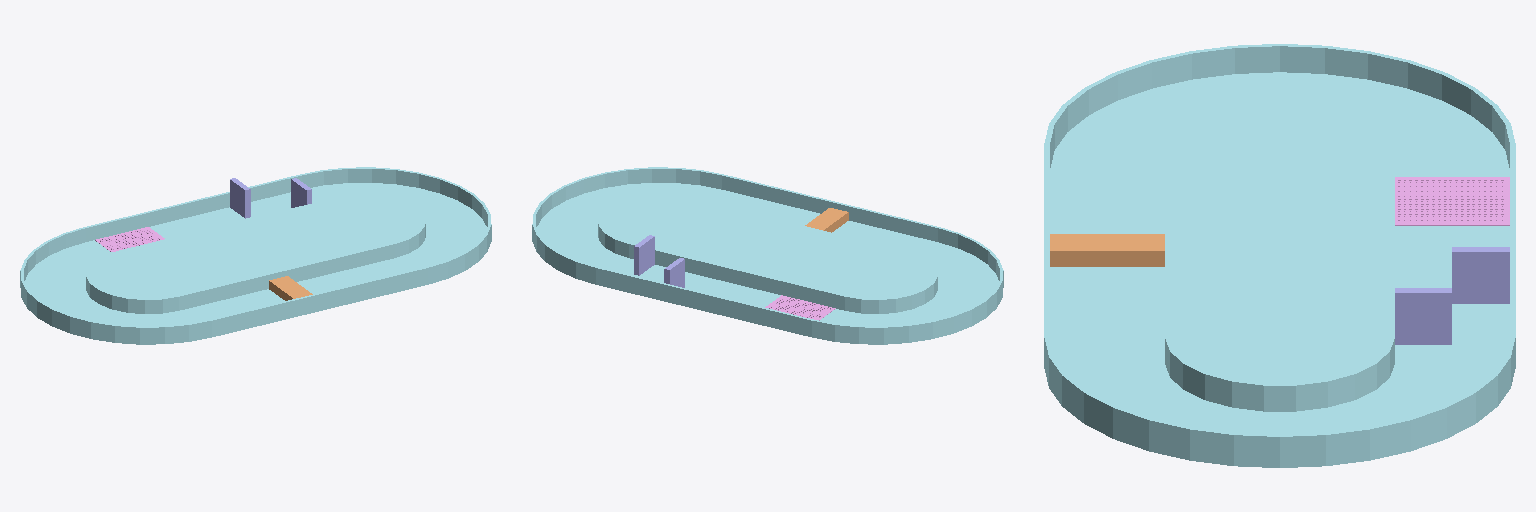
robot.urdf — field:
<?xml version="1.0" encoding="utf-8"?>
<!-- This URDF was automatically created by SolidWorks to URDF Exporter! Originally created by [author] ([email redacted]) 
     Commit Version: 1.6.0-4-g7f85cfe  Build Version: 1.6.7995.38578
     For more information, please see http://wiki.ros.org/sw_urdf_exporter -->
<robot
  name="field">
  <link
    name="arena">
    <inertial>
      <origin
        xyz="-1.07796256326989E-16 5.24094761893937E-16 0.251860663172305"
        rpy="0 0 0" />
      <mass
        value="36196.5475825679" />
      <inertia
        ixx="111361.282109728"
        ixy="-5.68961615328298E-11"
        ixz="1.47345935311266E-12"
        iyy="512546.576764148"
        iyz="6.31493583110209E-12"
        izz="621439.168724381" />
    </inertial>
    <visual>
      <origin
        xyz="0 0 0"
        rpy="0 0 0" />
      <geometry>
        <mesh
          filename="package://field/meshes/arena.STL" />
      </geometry>
      <material
        name="">
        <color
          rgba="0.756862745098039 0.964705882352941 1 1" />
      </material>
    </visual>
    <collision>
      <origin
        xyz="0 0 0"
        rpy="0 0 0" />
      <geometry>
        <mesh
          filename="package://field/meshes/arena.STL" />
      </geometry>
    </collision>
  </link>
  <link
    name="slope">
    <inertial>
      <origin
        xyz="-0.331974275290728 -0.125 0"
        rpy="0 0 0" />
      <mass
        value="420" />
      <inertia
        ixx="143.15"
        ixy="0"
        ixz="-3.70074341541719E-15"
        iyy="157.15"
        iyz="6.30512779412488E-32"
        izz="20.3" />
    </inertial>
    <visual>
      <origin
        xyz="0 0 0"
        rpy="0 0 0" />
      <geometry>
        <mesh
          filename="package://field/meshes/slope.STL" />
      </geometry>
      <material
        name="">
        <color
          rgba="0.988235294117647 0.737254901960784 0.517647058823529 1" />
      </material>
    </visual>
    <collision>
      <origin
        xyz="0 0 0"
        rpy="0 0 0" />
      <geometry>
        <mesh
          filename="package://field/meshes/slope.STL" />
      </geometry>
    </collision>
  </link>
  <joint
    name="slope_joint"
    type="fixed">
    <origin
      xyz="0 -3 0.375"
      rpy="1.5708 0 0" />
    <parent
      link="arena" />
    <child
      link="slope" />
    <axis
      xyz="1 0 0" />
  </joint>
  <link
    name="rubble">
    <inertial>
      <origin
        xyz="-1.00575680043092 0.00661190412065712 0.0035970917734951"
        rpy="0 0 0" />
      <mass
        value="46.4124999999998" />
      <inertia
        ixx="15.2630731070815"
        ixy="0.00197400686776215"
        ixz="0.00555265149334858"
        iyy="30.3300250056683"
        iyz="-0.0017007679007558"
        izz="15.0694080090995" />
    </inertial>
    <visual>
      <origin
        xyz="0 0 0"
        rpy="0 0 0" />
      <geometry>
        <mesh
          filename="package://field/meshes/rubble.STL" />
      </geometry>
      <material
        name="">
        <color
          rgba="1 0.752941176470588 1 1" />
      </material>
    </visual>
    <collision>
      <origin
        xyz="0 0 0"
        rpy="0 0 0" />
      <geometry>
        <mesh
          filename="package://field/meshes/rubble.STL" />
      </geometry>
    </collision>
  </link>
  <joint
    name="rubble_joint"
    type="fixed">
    <origin
      xyz="-1.6666 3 0.1"
      rpy="1.5708 0 0" />
    <parent
      link="arena" />
    <child
      link="rubble" />
    <axis
      xyz="0 0 0" />
  </joint>
  <link
    name="wall_1">
    <inertial>
      <origin
        xyz="-4.44089209850063E-16 0.5 0.1"
        rpy="0 0 0" />
      <mass
        value="200" />
      <inertia
        ixx="17.3333333333333"
        ixy="-1.49560497243821E-30"
        ixz="-1.5149918356864E-16"
        iyy="17.3333333333333"
        iyz="9.4039548065783E-32"
        izz="33.3333333333333" />
    </inertial>
    <visual>
      <origin
        xyz="0 0 0"
        rpy="0 0 0" />
      <geometry>
        <mesh
          filename="package://field/meshes/wall_1.STL" />
      </geometry>
      <material
        name="">
        <color
          rgba="0.752941176470588 0.752941176470588 1 1" />
      </material>
    </visual>
    <collision>
      <origin
        xyz="0 0 0"
        rpy="0 0 0" />
      <geometry>
        <mesh
          filename="package://field/meshes/wall_1.STL" />
      </geometry>
    </collision>
  </link>
  <joint
    name="wall_1_joint"
    type="fixed">
    <origin
      xyz="1.3334 3.5 0.1"
      rpy="1.5708 0 1.5708" />
    <parent
      link="arena" />
    <child
      link="wall_1" />
    <axis
      xyz="0 0 0" />
  </joint>
  <link
    name="wall_2">
    <inertial>
      <origin
        xyz="0 -0.5 0.1"
        rpy="0 0 0" />
      <mass
        value="200" />
      <inertia
        ixx="17.3333333333334"
        ixy="0"
        ixz="-2.31296463463575E-17"
        iyy="17.3333333333333"
        iyz="5.7176045223996E-32"
        izz="33.3333333333334" />
    </inertial>
    <visual>
      <origin
        xyz="0 0 0"
        rpy="0 0 0" />
      <geometry>
        <mesh
          filename="package://field/meshes/wall_2.STL" />
      </geometry>
      <material
        name="">
        <color
          rgba="0.752941176470588 0.752941176470588 1 1" />
      </material>
    </visual>
    <collision>
      <origin
        xyz="0 0 0"
        rpy="0 0 0" />
      <geometry>
        <mesh
          filename="package://field/meshes/wall_2.STL" />
      </geometry>
    </collision>
  </link>
  <joint
    name="wall_2_joint"
    type="fixed">
    <origin
      xyz="3.03337213258269 2.5 0.0999999999999998"
      rpy="-1.5707963267949 0 -1.5707963267949" />
    <parent
      link="arena" />
    <child
      link="wall_2" />
    <axis
      xyz="1 0 0" />
  </joint>
</robot>

--- Render facts (derived) ---
3 views of the same robot in one strip: view 1: azimuth 30°, elevation 25°; view 2: azimuth 150°, elevation 25°; view 3: azimuth 270°, elevation 25° (orthographic).
Robot: field — 5 links, 4 joints (4 fixed); root link arena; default pose: every joint at zero.
Links seen in each view (by area): view 1: arena, rubble, wall_1, slope; view 2: arena, rubble, wall_2, slope; view 3: arena, rubble, slope, wall_1, wall_2.
Link boxes in pixels (x1,y1,x2,y2): arena: (20,167,491,344); rubble: (95,227,164,251); wall_1: (230,178,250,218); slope: (269,276,312,300); arena: (532,167,1003,344); rubble: (765,295,835,320); wall_2: (634,235,654,275); slope: (805,208,848,232); arena: (1044,44,1515,467); rubble: (1395,177,1509,225); slope: (1050,234,1164,266); wall_1: (1452,247,1509,303); wall_2: (1395,288,1451,344).
Size in the robot's own frame: 16.2 by 8.2 by 1.1 metres.
5 mesh visuals loaded from 5 distinct referenced files (5 binary STL).